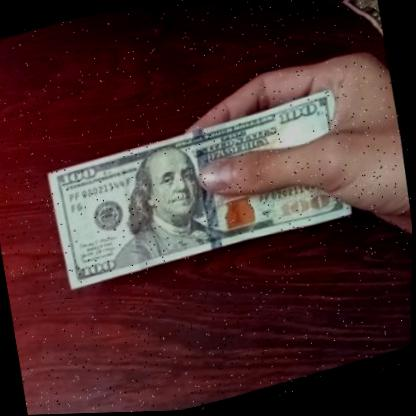dollar_front: (39, 89, 367, 299)
